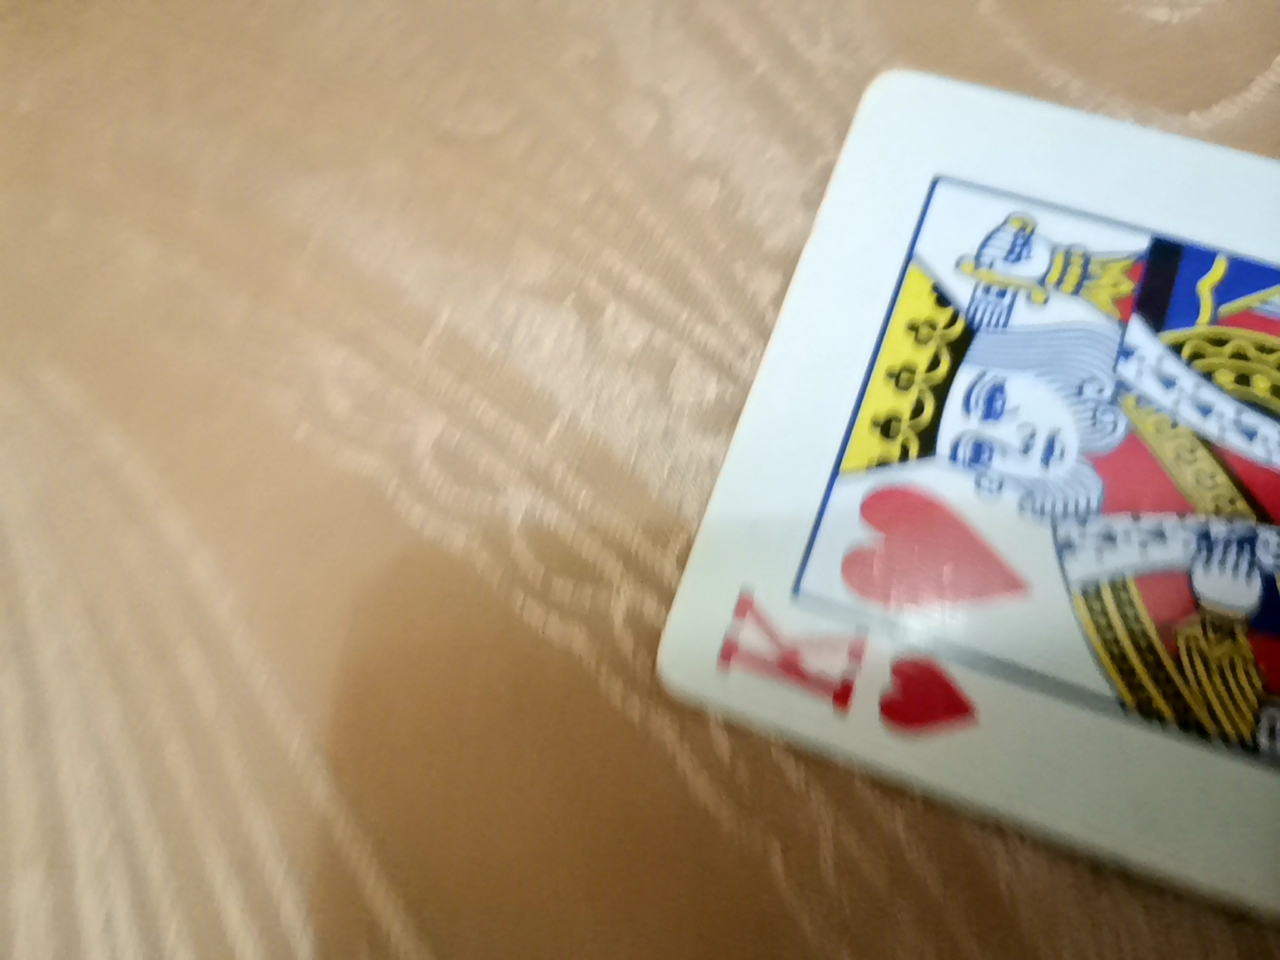hx k: (653, 43, 1269, 960)
